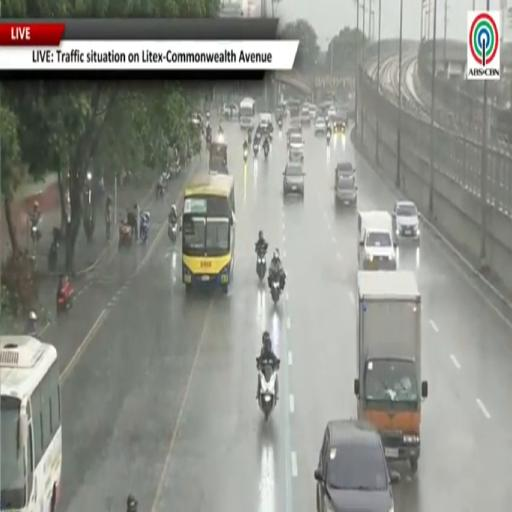bus: (0, 335, 61, 511), (181, 174, 235, 293), (239, 98, 255, 129), (288, 99, 300, 119)
car: (315, 420, 399, 511), (393, 201, 419, 242), (283, 162, 305, 198), (287, 126, 302, 147), (222, 103, 238, 120), (289, 133, 303, 152), (332, 114, 346, 133), (288, 150, 303, 164), (300, 106, 311, 125), (315, 118, 326, 135), (328, 106, 336, 119), (310, 105, 317, 119)
motorcycle: (257, 359, 279, 420), (83, 172, 94, 242), (57, 280, 74, 315), (48, 228, 61, 271), (119, 223, 133, 249), (48, 240, 59, 271), (256, 250, 266, 282), (140, 212, 149, 244), (270, 279, 281, 305), (31, 219, 41, 245), (168, 222, 177, 243), (156, 181, 166, 199), (105, 219, 111, 242), (206, 133, 211, 148), (264, 144, 269, 159), (243, 149, 248, 163), (254, 143, 259, 156), (277, 119, 282, 130), (327, 132, 330, 145)
truck: (354, 270, 428, 472), (358, 211, 396, 270)
